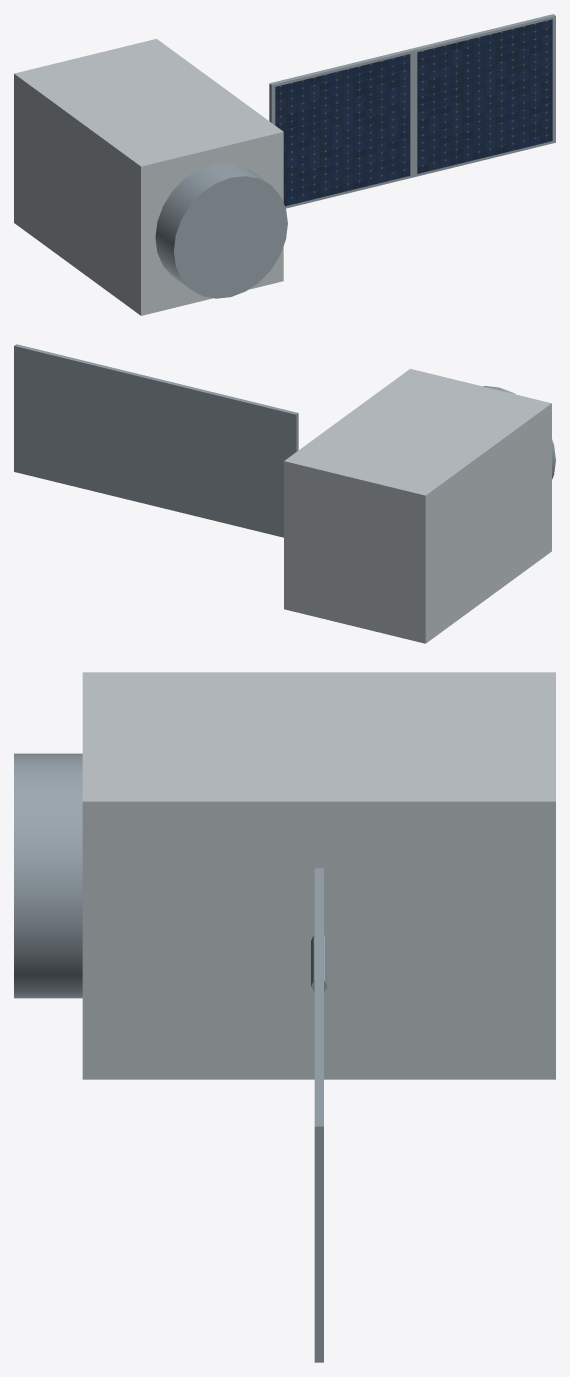
File: ref-nextsat-43811.glb
3 renders of one model, top to bottom at view 1: azimuth 30°, elevation 25°; view 2: azimuth 150°, elevation 25°; view 3: azimuth 270°, elevation 25°, orthographic. The views are drawn at different scales.
Parts seen in each view (by area): view 1: Spacecraft body, Photovoltaic laminates (×2), Cylindrical section, Array frame (×2); view 2: Spacecraft body, Array frame (×2); view 3: Spacecraft body, Cylindrical section, Array frame (×2).
Part boxes in pixels (box(x1,y1,x2,y2)): Spacecraft body: box(14, 39, 283, 315); Photovoltaic laminates (×2): box(275, 19, 552, 206); Cylindrical section: box(155, 162, 287, 298); Array frame (×2): box(269, 14, 555, 208); Spacecraft body: box(284, 368, 551, 643); Array frame (×2): box(14, 344, 298, 537); Spacecraft body: box(82, 672, 555, 1079); Cylindrical section: box(14, 753, 82, 998); Array frame (×2): box(314, 868, 323, 1362).
Size of the model in its own units: 2 by 0.598 by 1.06.
Materials: 3 (1 with a texture image).
